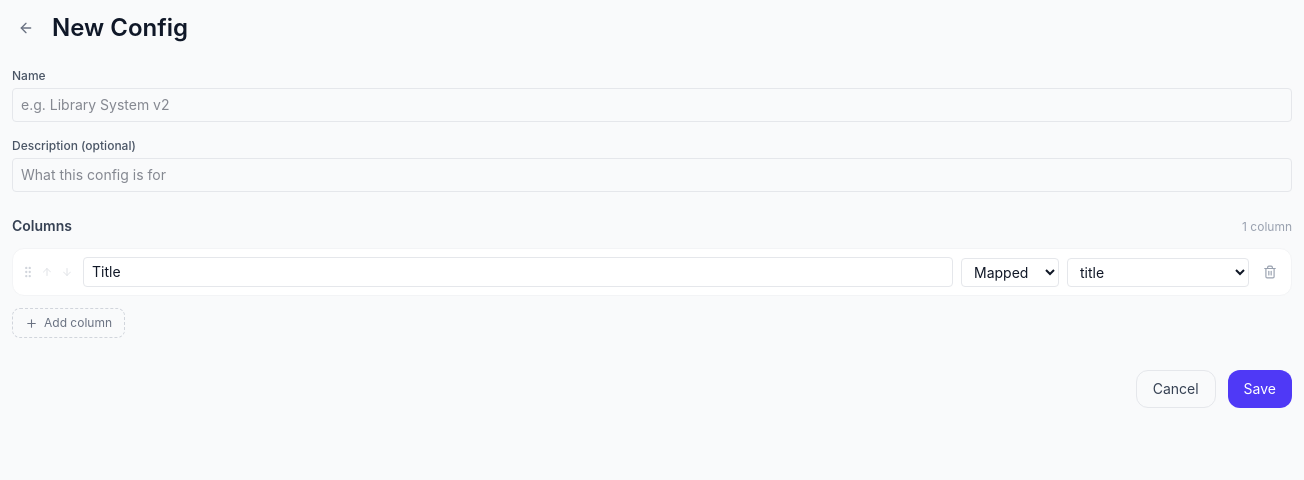
it: ConfigEditor — create mode › rejects save when a column has an empty header
The width and height of the screenshot is (1304, 480).
Type "My Config" into the field labelled "Name" at (652, 105), box [12,88,1292,122]
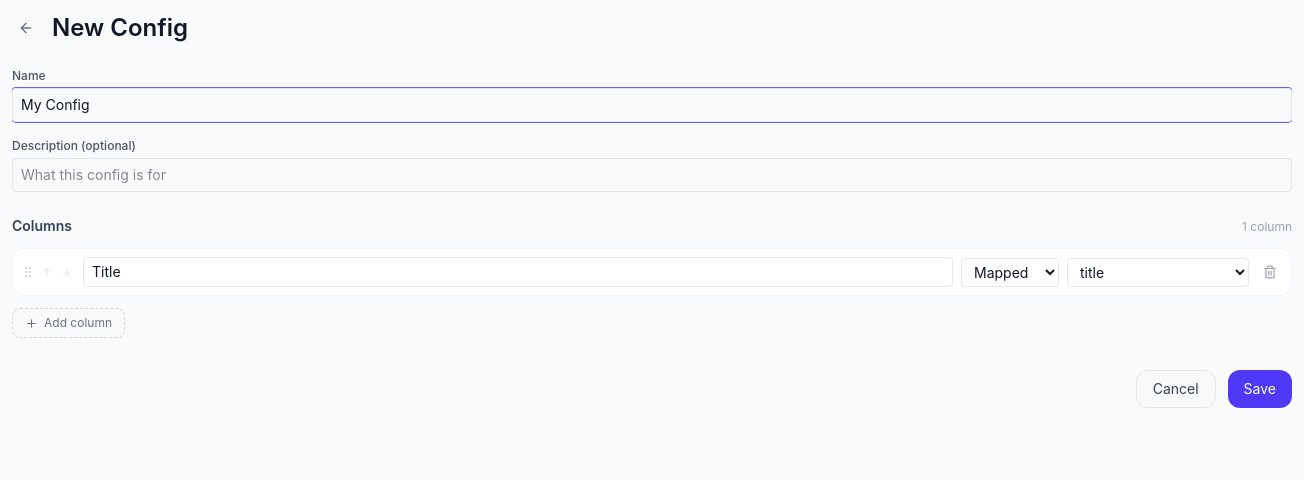
Clear the field named "Column 1 header" at (518, 272), box [83,257,953,287]
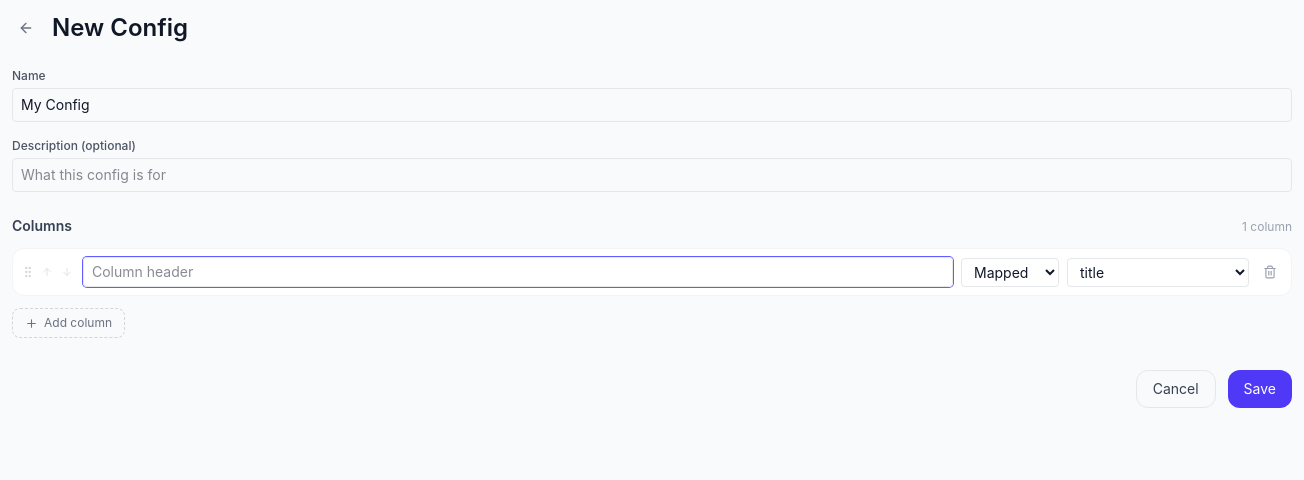
Click the button "Save" at (1260, 389), box [1228,370,1292,408]
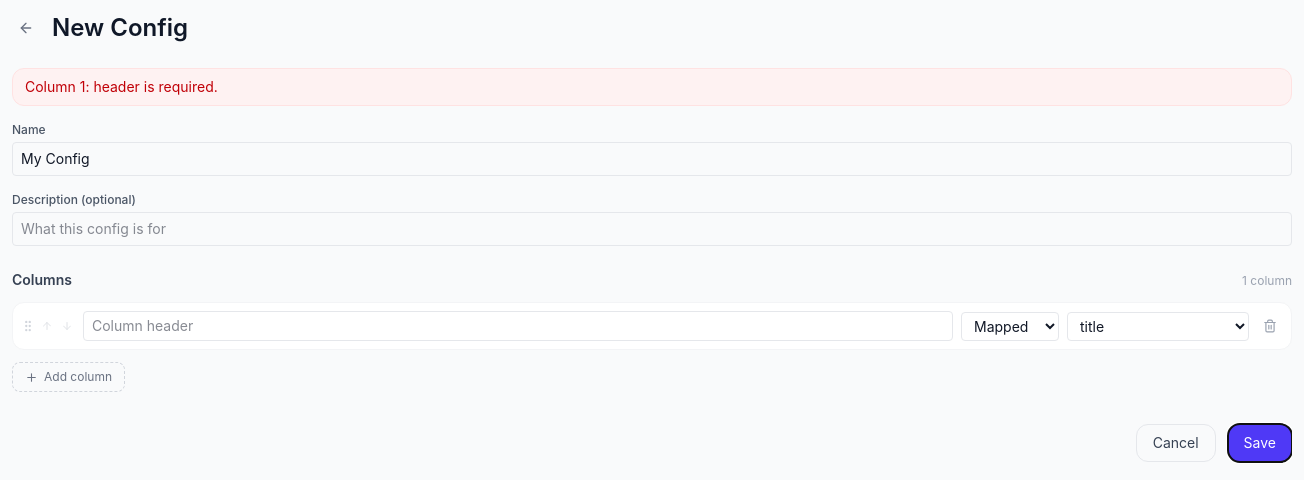
expect the text "Column 1: header is required." is shown: met, box [12,68,1292,106]
